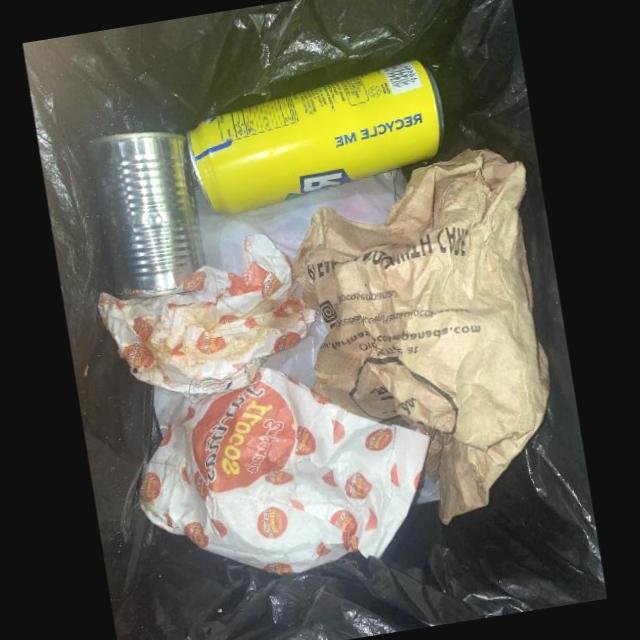giay: (290, 147, 549, 524), (137, 365, 431, 574), (98, 233, 317, 395)
nhom: (188, 59, 444, 215), (88, 130, 206, 299)
